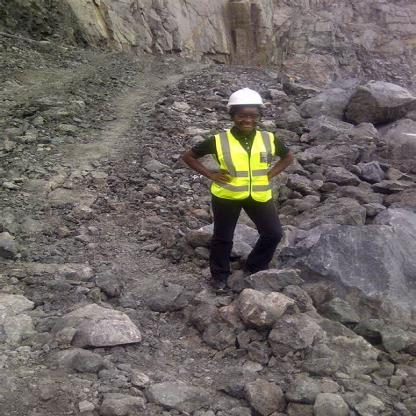person: (182, 63, 301, 303)
